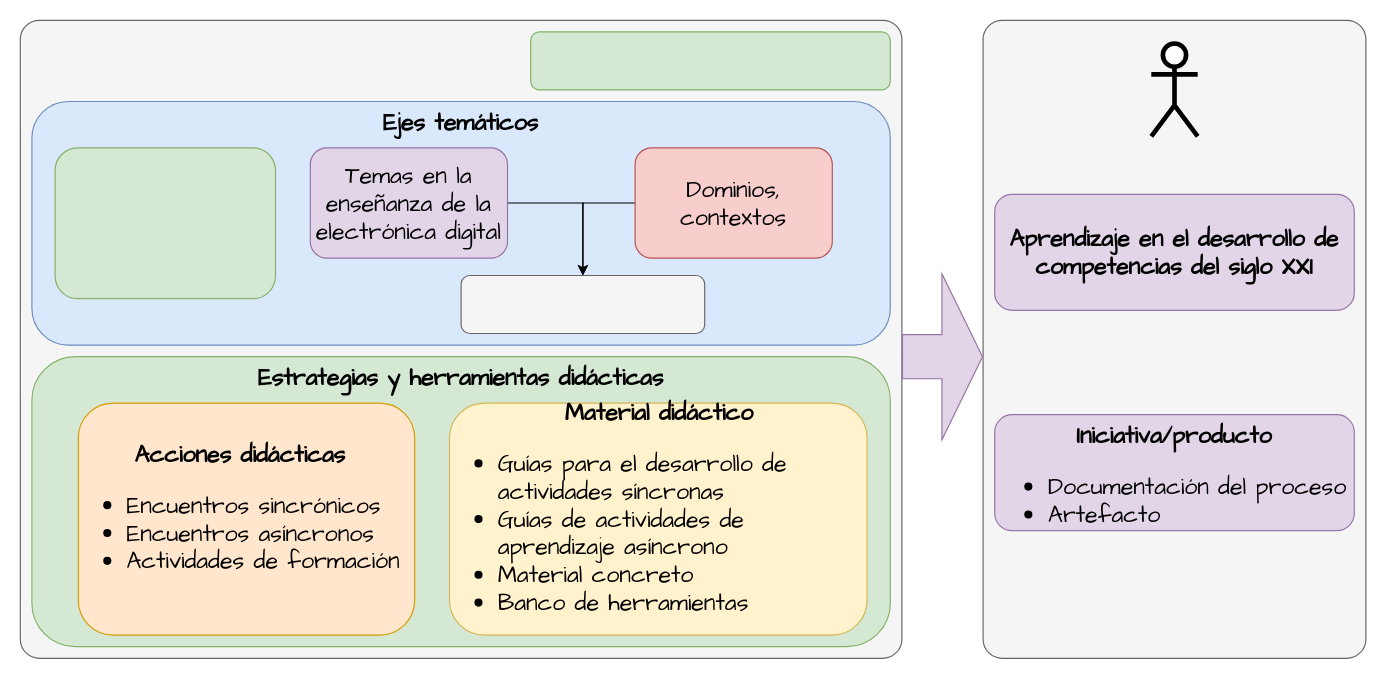
Image size: 1386x679. Some labels were removed from this diagram. Each missing label, with the centre of its shape:
Apropiación social de la ciencia y la tecnología (Objetivos de interés global): the point at 165,223
Estudiante/Profesor: the point at 1173,89
Metodología ABP: the point at 710,60
Metodología de diseño de sistemas digitales complejos: the point at 582,304
